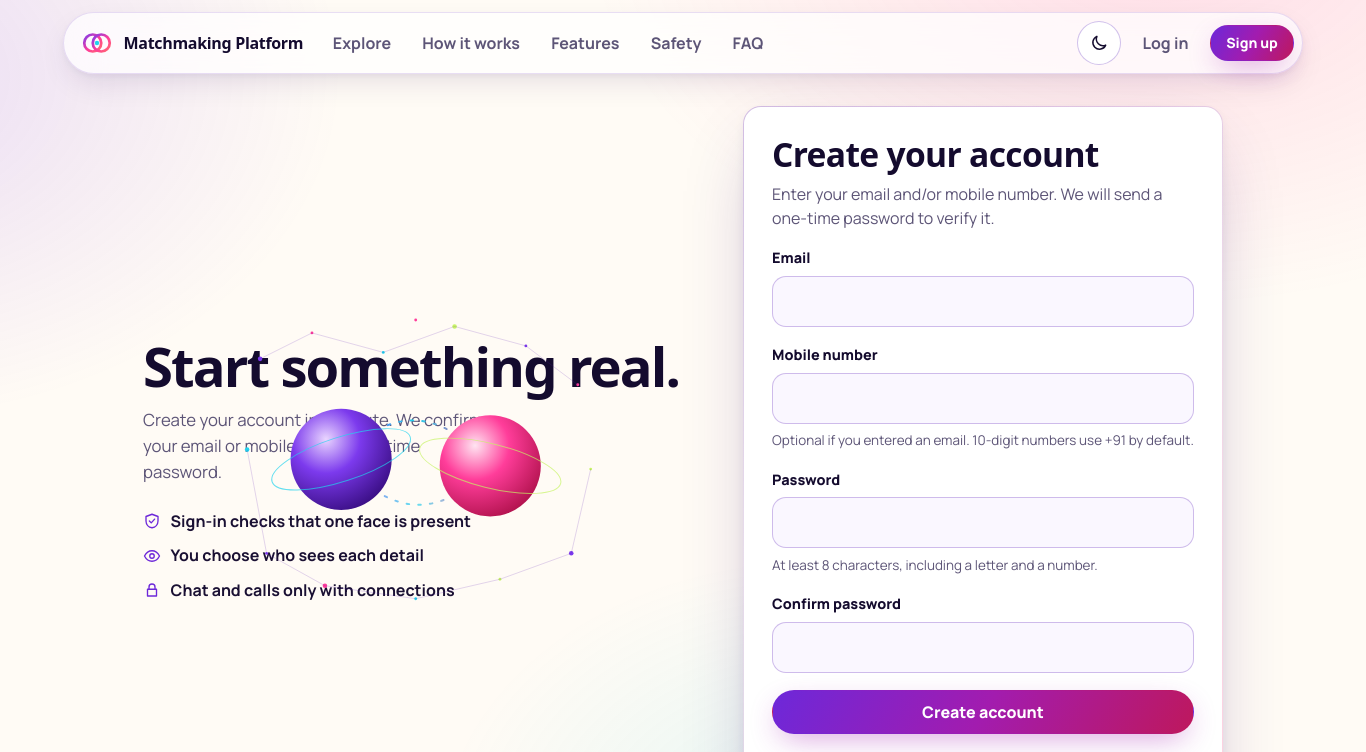
registration page › registers and moves to OTP verification
In the field labelled "Email": (983, 301) [772,276,1194,327], type "asha@example.com"
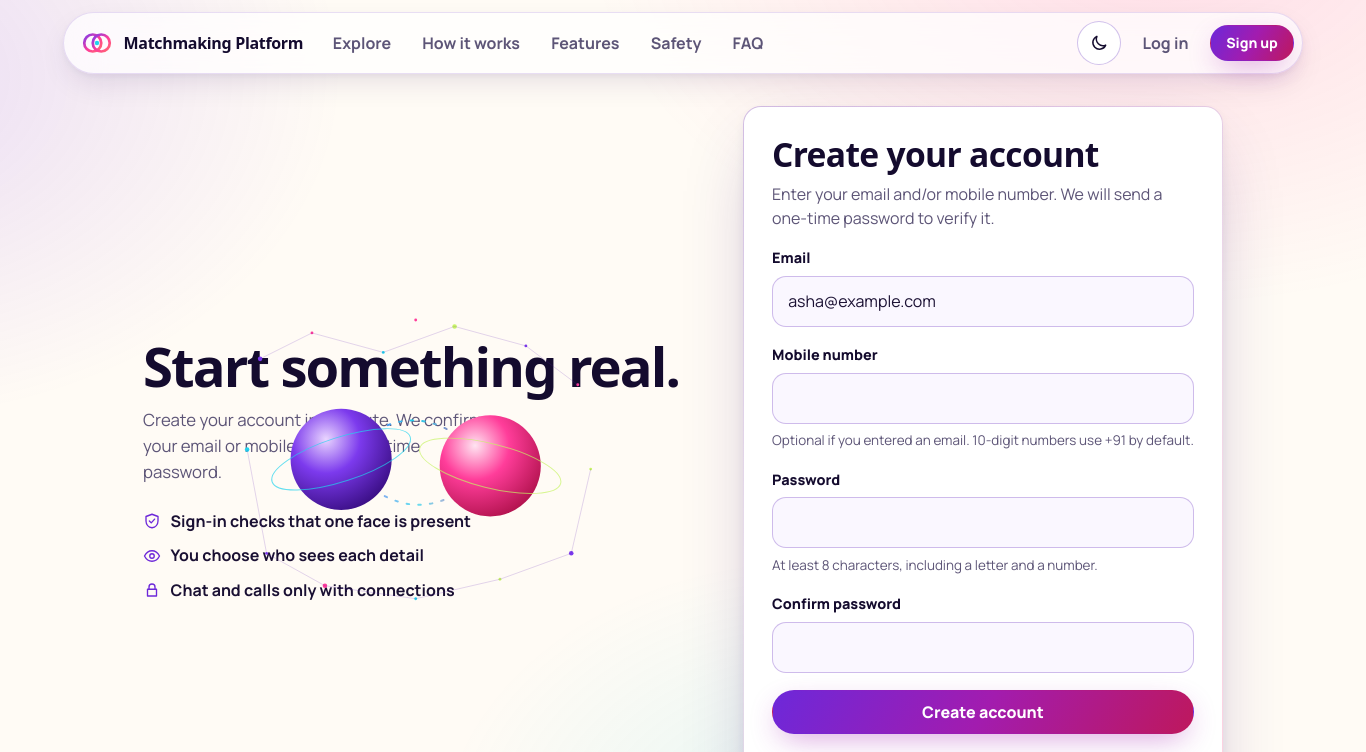
In the password field labelled "Password": (983, 523) [772,497,1194,548], type "Secure123"
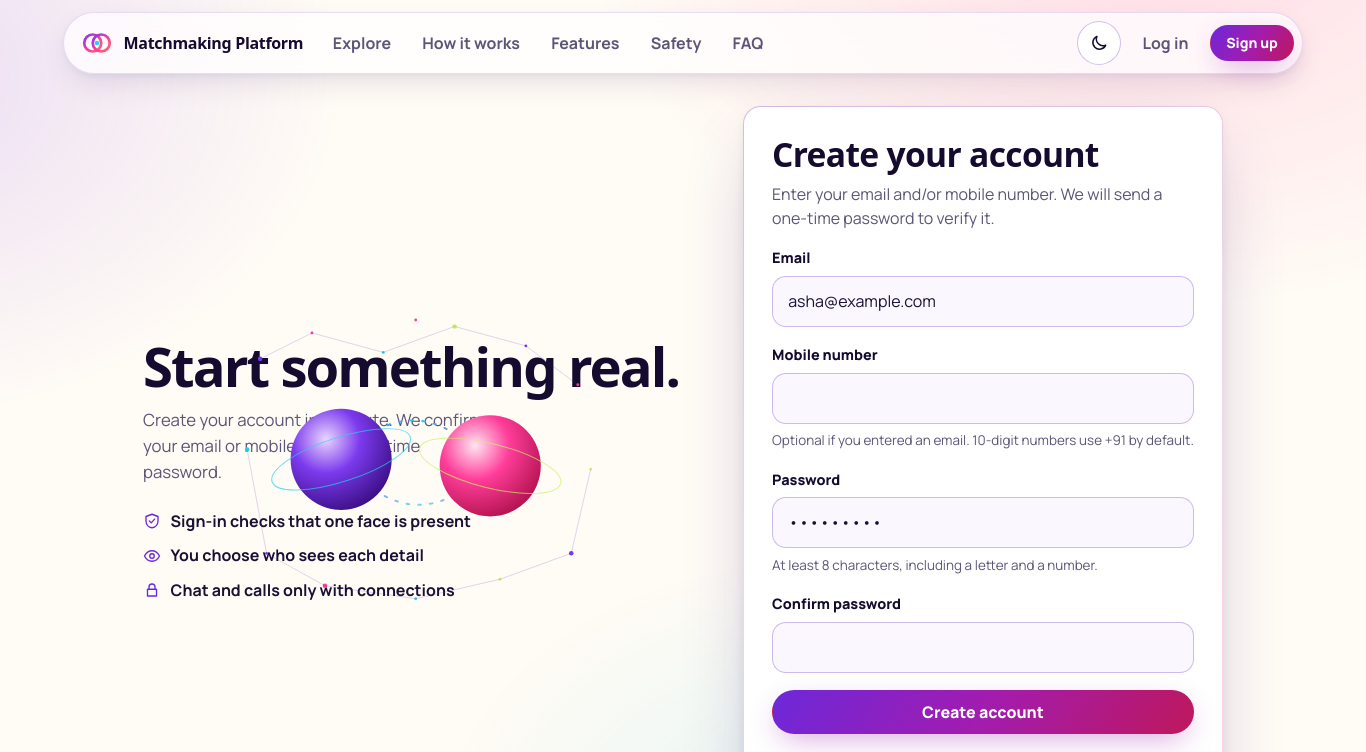
In the password field labelled "Confirm password": (983, 647) [772,622,1194,672], type "Secure123"
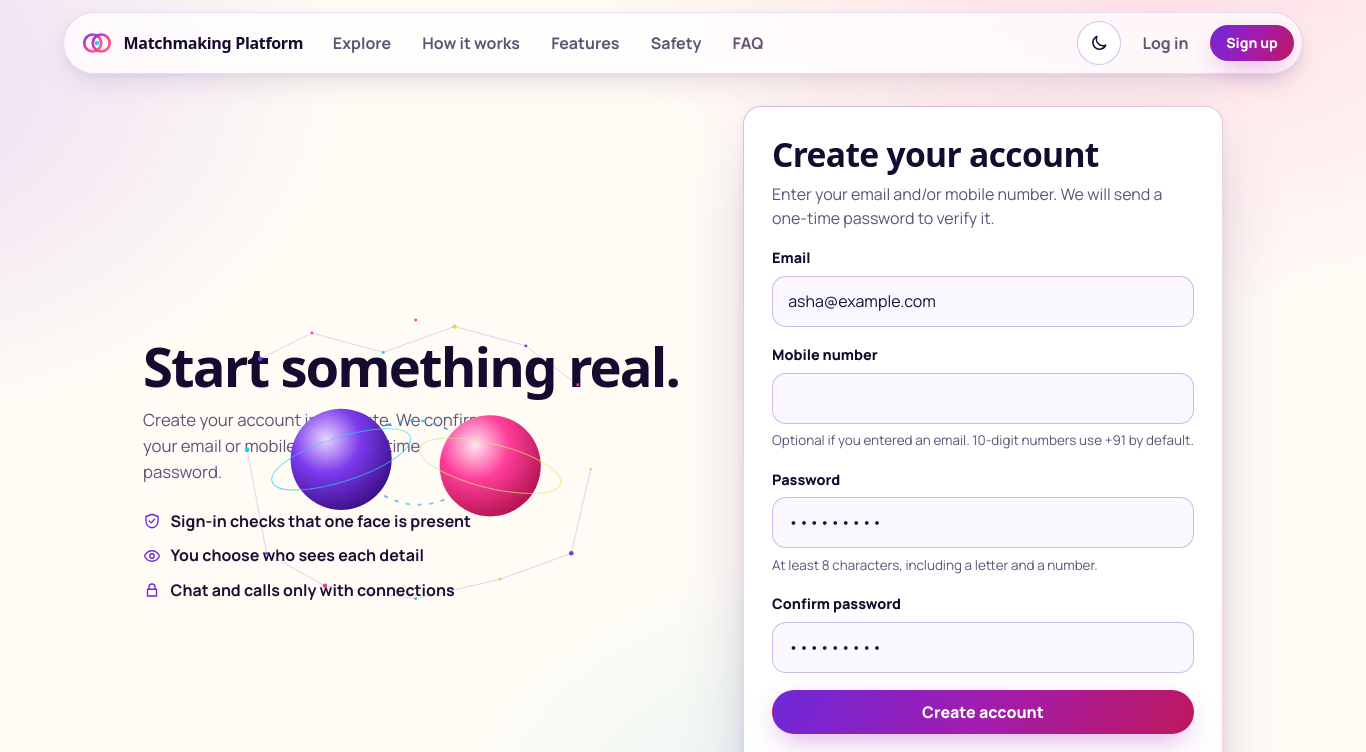
Click the button "Create account": (983, 712) [772,690,1194,734]
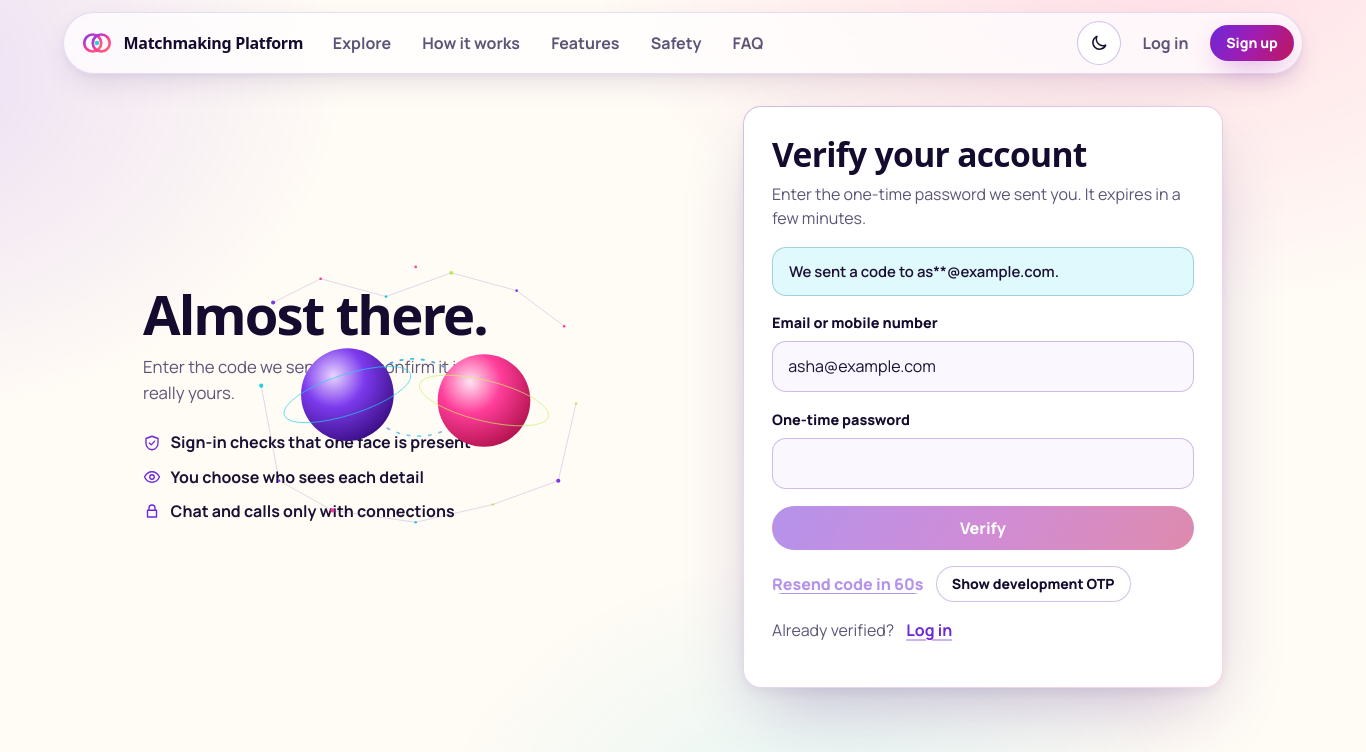
Expected: the text "We sent a code to as**@example.com." is shown, [772,247,1194,296]
